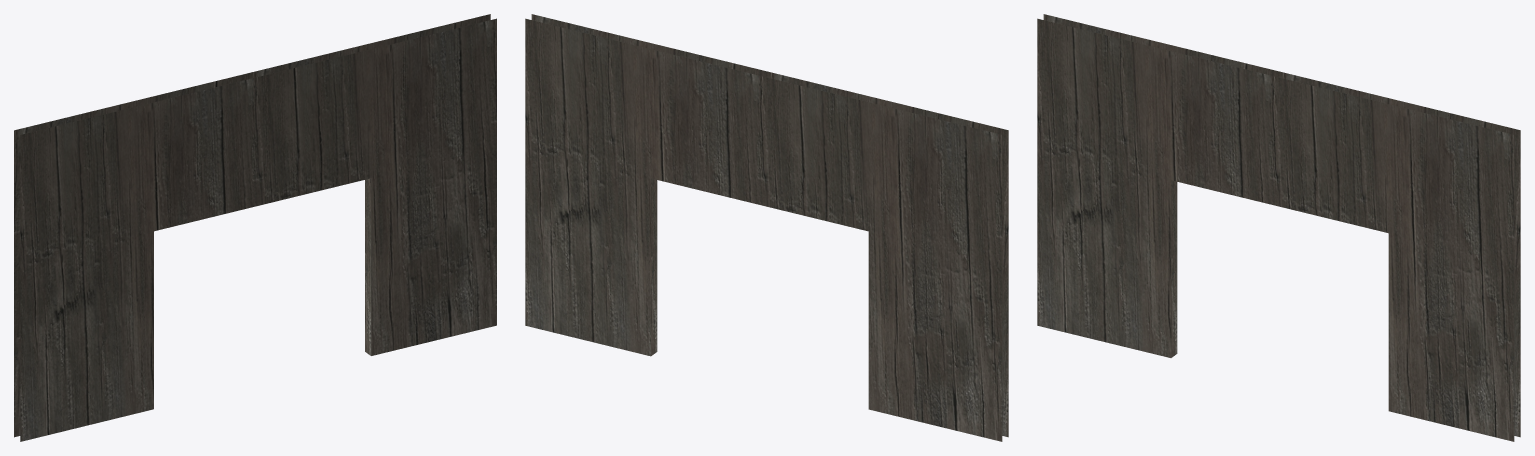
The picture shows the model from 3 angles, left to right: view 1: azimuth 30°, elevation 25°; view 2: azimuth 150°, elevation 25°; view 3: azimuth 330°, elevation 25°; orthographic projection.
Visible parts, largest first — view 1: Box20; view 2: Box20; view 3: Box20.
Part boxes in pixels (x1,y1,x2,y2): Box20: (14,14,496,441); Box20: (525,14,1008,441); Box20: (1037,14,1520,441).
Size of the model in its own units: 219 by 135 by 5.15.
